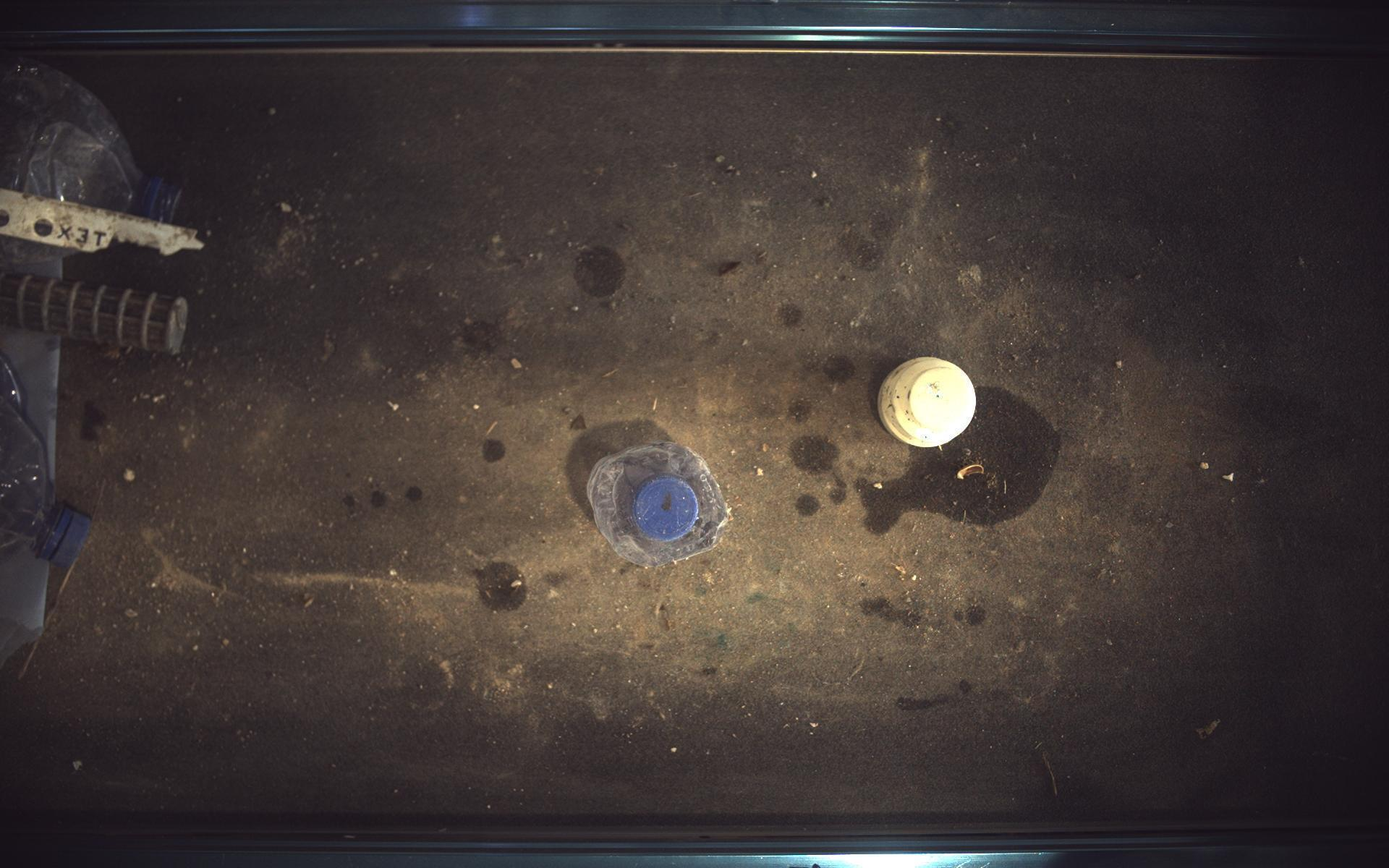general_w: (1, 54, 179, 221), (1, 353, 89, 568), (587, 442, 729, 568), (1, 236, 61, 275)
plastic: (1, 273, 187, 354), (1, 188, 202, 255), (880, 357, 979, 448)
